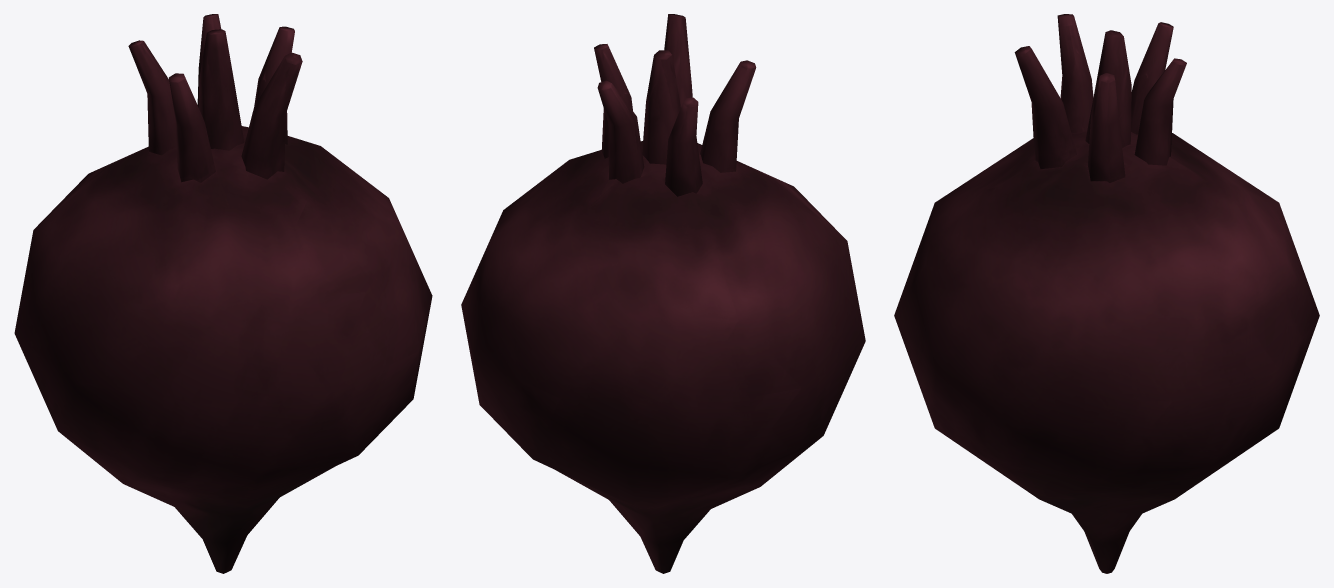
Rendered from Beet01.fbx.
3 renders of one model, left to right at view 1: azimuth 30°, elevation 25°; view 2: azimuth 150°, elevation 25°; view 3: azimuth 270°, elevation 25°, orthographic. The views are drawn at different scales.
Visible parts, largest first — view 1: Beet01_LOD0; view 2: Beet01_LOD0; view 3: Beet01_LOD0.
Boxes of the visible parts, x1,y1,x2,y2 form: Beet01_LOD0: (14, 14, 432, 573); Beet01_LOD0: (461, 14, 865, 573); Beet01_LOD0: (894, 14, 1319, 573).
Size of what is drawn, in the model's own units: 16.98 by 24.97 by 17.85.
